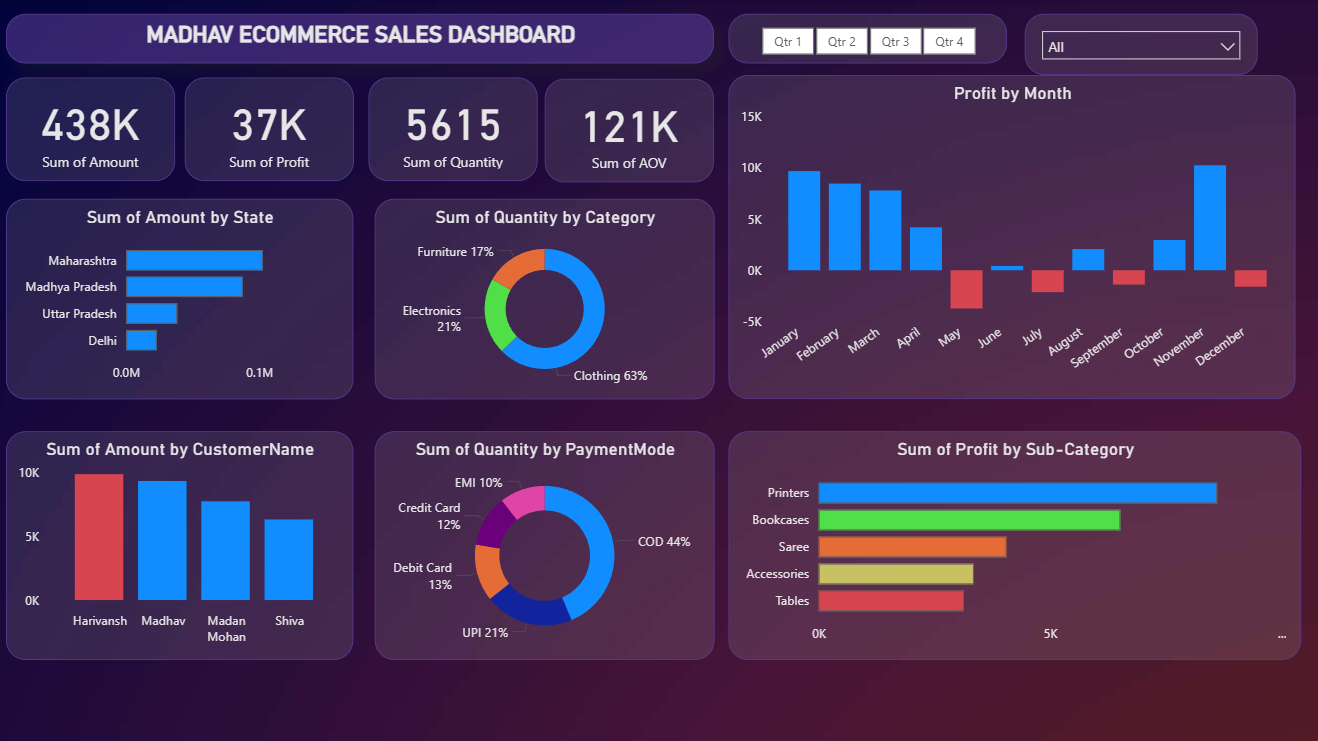

This screenshot's page, from the dashboard's own definition file:
{"tool":"powerbi","page":{"name":"Page 1","canvas":[1280,720],"ordinal":0},"visuals":[{"type":"columnChart","title":"Profit by Month","fields":{"Y":["Details.Profit"],"Category":["Orders.Order Date.Variation.Date Hierarchy.Month"]},"box":[706.7,72.7,547.5,312.9],"z":0},{"type":"barChart","fields":{"Category":["Details.Sub-Category"],"Y":["Details.Profit"]},"box":[706.7,415.8,553,220.9],"z":1000},{"type":"donutChart","fields":{"Category":["Details.Category"],"Y":["Details.Quantity"]},"box":[365,192.1,328,193.5],"z":2000},{"type":"donutChart","fields":{"Y":["Details.Quantity"],"Category":["Details.PaymentMode"]},"box":[365,415.8,328,220.9],"z":3000},{"type":"card","fields":{"Values":["Details.Amount"]},"box":[9.7,74.8,162.9,100.1],"z":4000},{"type":"card","fields":{"Values":["Details.Quantity"]},"box":[359.5,74.8,162.9,100.1],"z":5000},{"type":"card","fields":{"Values":["Details.Profit"]},"box":[182.2,74.8,162.9,100.1],"z":6000},{"type":"card","fields":{"Values":["Details.AOV"]},"box":[529.6,76,162.9,100.1],"z":7000},{"type":"barChart","fields":{"Y":["Details.Amount"],"Category":["Orders.State"]},"box":[9.6,192.1,334.8,193.5],"z":8000},{"type":"columnChart","fields":{"Category":["Orders.CustomerName"],"Y":["Details.Amount"]},"box":[9.6,415.8,334.8,220.9],"z":9000},{"type":"textbox","title":"MADHAV  ECOMMERCE SALES DASHBOARD","box":[9.6,13.7,683.4,48],"z":10000},{"type":"slicer","fields":{"Values":["Orders.Order Date.Variation.Date Hierarchy.Quarter"]},"box":[706.7,13.7,269,48],"z":11000},{"type":"slicer","fields":{"Values":["Orders.State"]},"box":[993.5,13.7,225,59],"z":12000}]}

Visuals, with their boxes in screenshot pixels (x1, y1, x2, y2), scaled from the page's 1280x720 canvas onto the 1318x741 screenshot:
"Profit by Month" columnChart: [728,75,1291,397]
barChart - Details.Sub-Category x Details.Profit: [728,428,1297,655]
donutChart - Details.Category x Details.Quantity: [376,198,714,397]
donutChart - Details.Quantity x Details.PaymentMode: [376,428,714,655]
card - Details.Amount: [10,77,178,180]
card - Details.Quantity: [370,77,538,180]
card - Details.Profit: [188,77,355,180]
card - Details.AOV: [545,78,713,181]
barChart - Details.Amount x Orders.State: [10,198,355,397]
columnChart - Orders.CustomerName x Details.Amount: [10,428,355,655]
"MADHAV  ECOMMERCE SALES DASHBOARD" textbox: [10,14,714,63]
slicer - Orders.Order Date.Variation.Date Hierarchy.Quarter: [728,14,1005,63]
slicer - Orders.State: [1023,14,1255,75]
